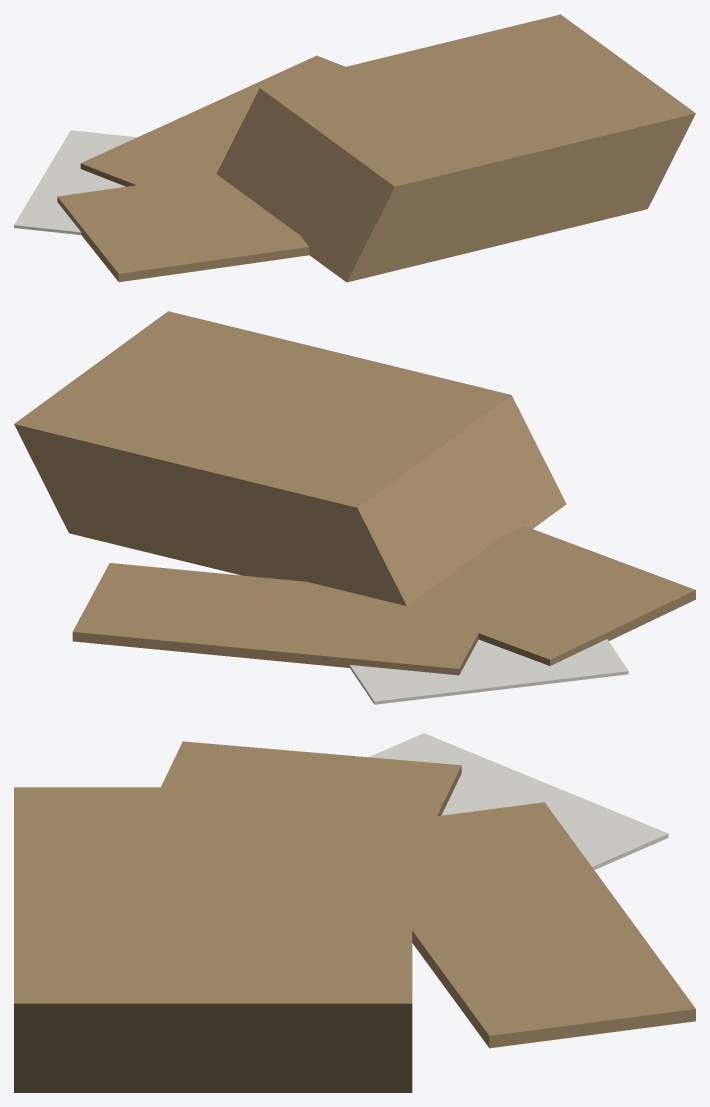
File: cardboard_crushed.fbx
3 views of the same model, one above another, from view 1: azimuth 30°, elevation 25°; view 2: azimuth 150°, elevation 25°; view 3: azimuth 270°, elevation 25° (orthographic). The views are drawn at different scales.
Parts seen in each view (by area): view 1: cardboard_crushed; view 2: cardboard_crushed; view 3: cardboard_crushed.
Boxes of the visible parts, x1,y1,x2,y2 form: cardboard_crushed: [14, 14, 695, 282]; cardboard_crushed: [14, 311, 695, 704]; cardboard_crushed: [14, 733, 695, 1092].
Bounding box in the file's own units: 0.8114 × 0.12 × 0.5993.
